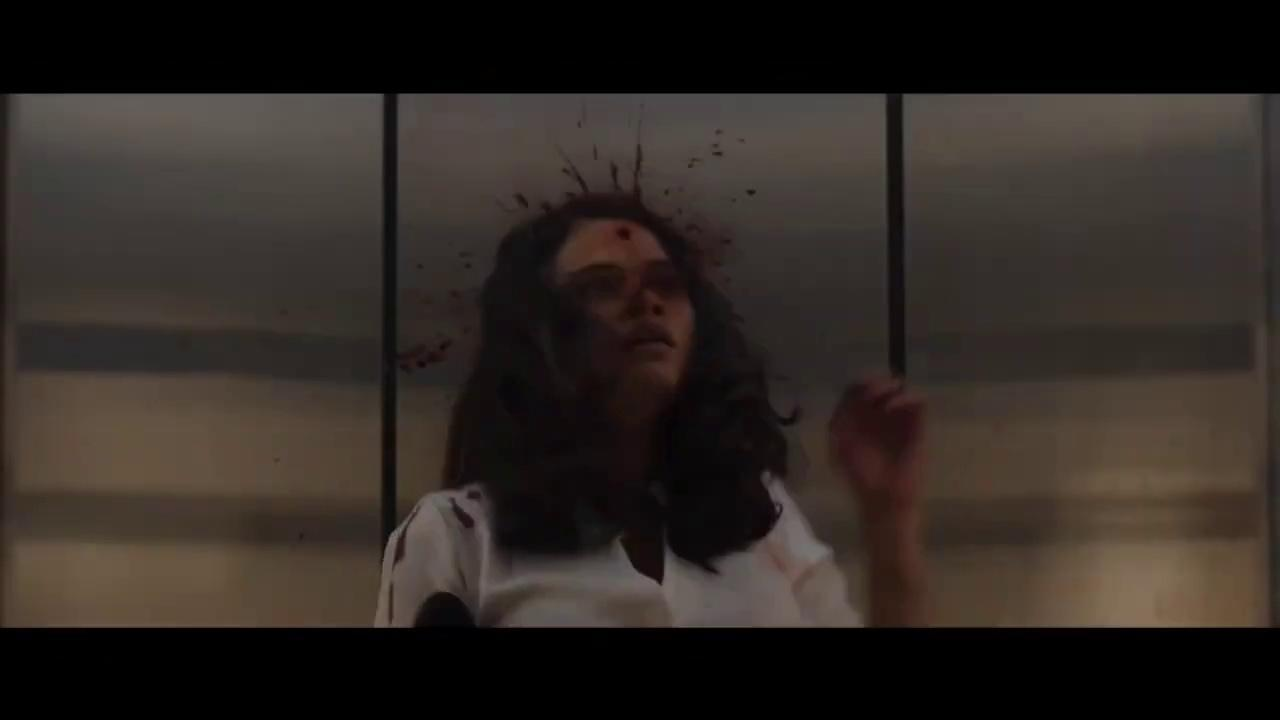Fire: (394, 123, 742, 485), (426, 251, 475, 303), (692, 125, 747, 168)
